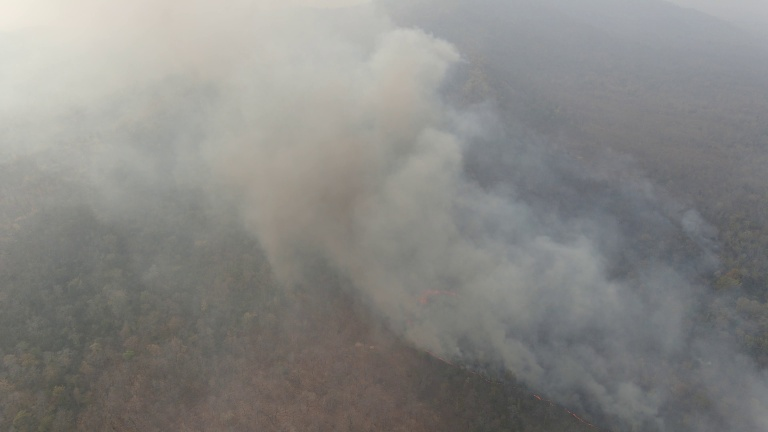fire: (533, 393, 587, 427), (409, 343, 466, 372), (415, 289, 464, 308)
smoke: (162, 5, 505, 331), (378, 166, 718, 426)
